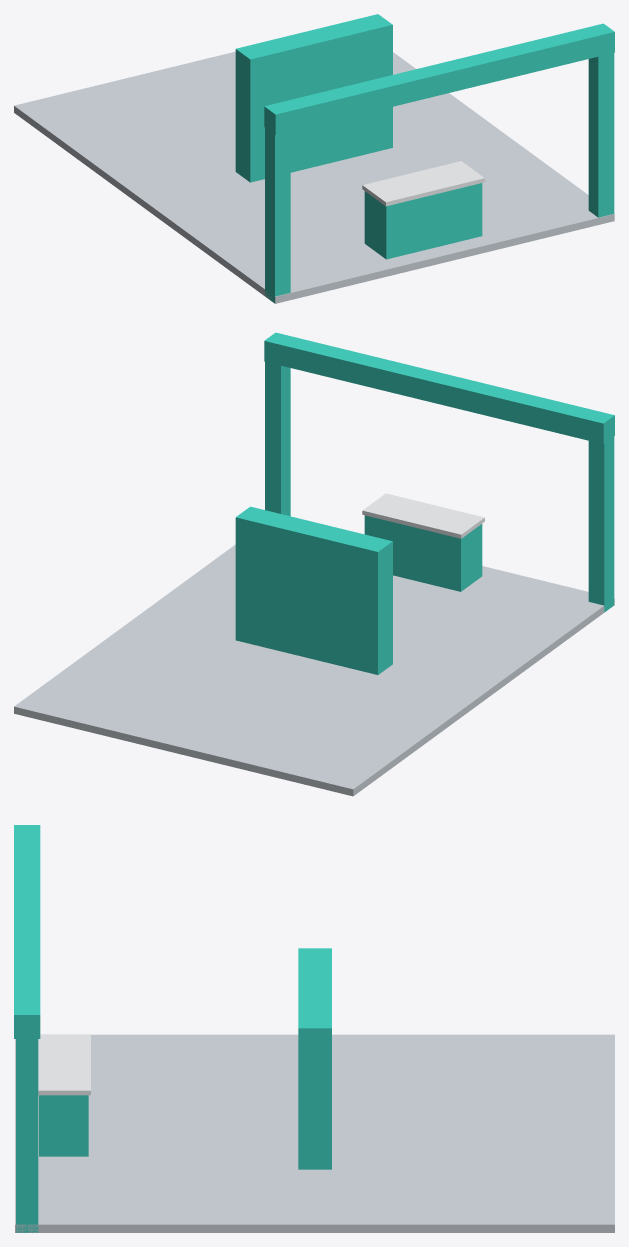
3 views of the same model, one above another, from view 1: azimuth 30°, elevation 25°; view 2: azimuth 150°, elevation 25°; view 3: azimuth 270°, elevation 25° (orthographic). The views are drawn at different scales.
Visible parts, largest first — view 1: Exhibition Booth Concept; view 2: Exhibition Booth Concept; view 3: Exhibition Booth Concept.
Boxes of the visible parts, box(x1,y1,x2,y2) form: Exhibition Booth Concept: box(14, 14, 614, 303); Exhibition Booth Concept: box(14, 332, 614, 796); Exhibition Booth Concept: box(14, 825, 614, 1232).
Bounding box in the file's own units: 6 × 3.2 × 8.01.
